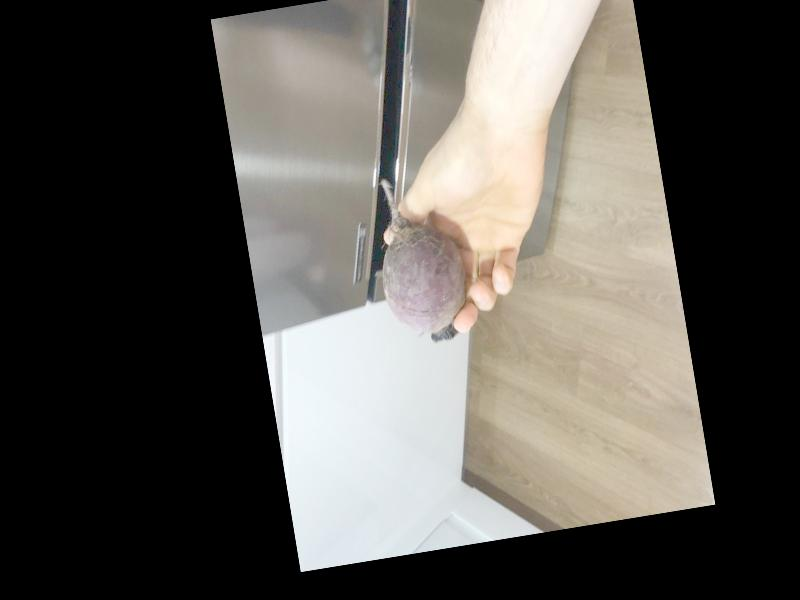Beet: (368, 171, 473, 350)
